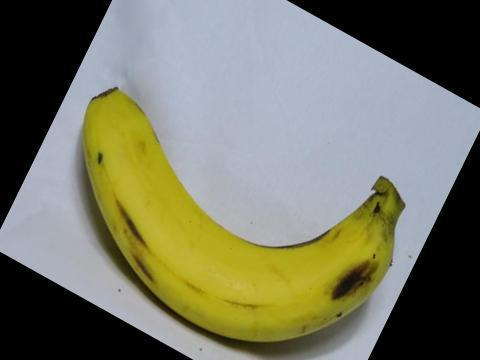freshripe: (66, 67, 427, 359)
